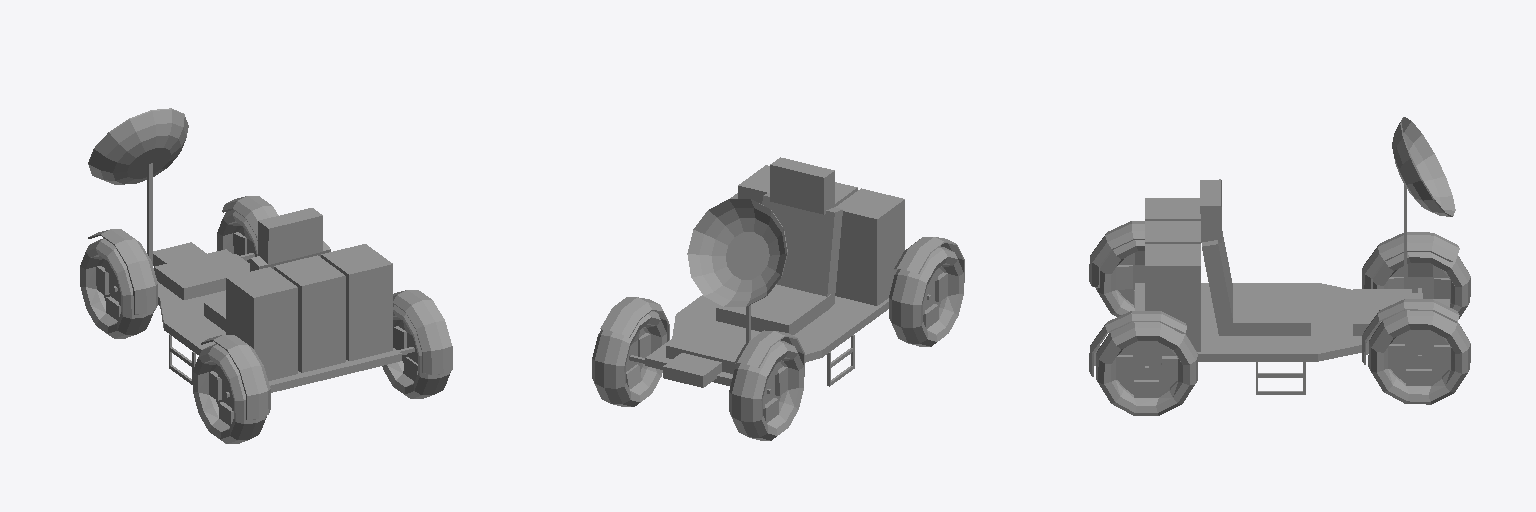
The model's file is buggy_inventory.obj.
The picture shows the model from 3 angles: view 1: azimuth 30°, elevation 25°; view 2: azimuth 150°, elevation 25°; view 3: azimuth 270°, elevation 25°; orthographic projection.
Parts seen in each view (by area): view 1: MainBody, Wheel_Front_Left, Wheel_Back_Left, CargoLeft, Wheel_Back_Right, CargoMid, CargoRight, RadarDish_Dish, Wheel_Front_Right; view 2: MainBody, RadarDish_Dish, Wheel_Back_Left, Wheel_Front_Left, CargoLeft, Wheel_Front_Right, CargoRight; view 3: MainBody, Wheel_Front_Right, Wheel_Back_Right, Wheel_Front_Left, CargoRight, Wheel_Back_Left, RadarDish_Dish, CargoMid, CargoLeft.
Boxes of the visible parts, x1,y1,x2,y2 form: MainBody: [147, 162, 401, 392]; Wheel_Front_Left: [80, 229, 157, 338]; Wheel_Back_Left: [193, 335, 270, 443]; CargoLeft: [226, 267, 297, 380]; Wheel_Back_Right: [382, 290, 452, 398]; CargoMid: [274, 255, 345, 372]; CargoRight: [321, 244, 392, 360]; RadarDish_Dish: [88, 108, 188, 184]; Wheel_Front_Right: [217, 196, 278, 262]; MainBody: [645, 157, 888, 387]; RadarDish_Dish: [687, 199, 787, 306]; Wheel_Back_Left: [889, 237, 964, 346]; Wheel_Front_Left: [729, 330, 804, 440]; CargoLeft: [835, 188, 904, 305]; Wheel_Front_Right: [592, 297, 669, 406]; CargoRight: [738, 165, 769, 203]; MainBody: [1135, 179, 1449, 394]; Wheel_Front_Right: [1362, 299, 1470, 404]; Wheel_Back_Right: [1089, 311, 1197, 415]; Wheel_Front_Left: [1362, 232, 1470, 318]; CargoRight: [1145, 244, 1200, 351]; Wheel_Back_Left: [1089, 221, 1144, 316]; RadarDish_Dish: [1392, 117, 1455, 216]; CargoMid: [1145, 221, 1200, 243]; CargoLeft: [1145, 198, 1200, 220].
Bounding box in the file's own units: 5.91 × 5.85 × 9.03.